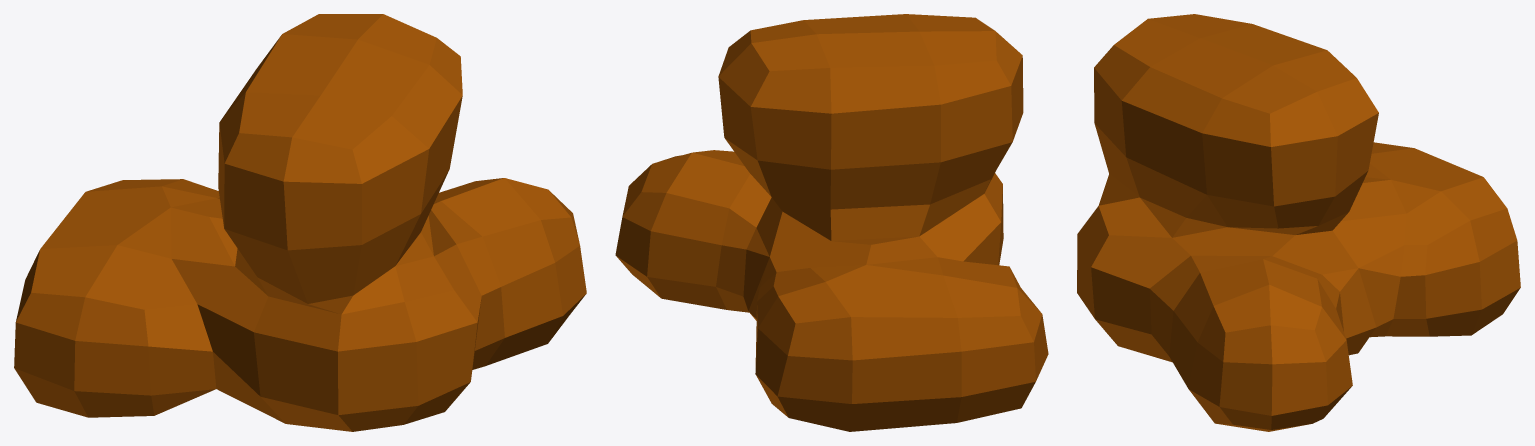
The model's file is M_Stone_01_Lod1.fbx.
The picture shows the model from 3 angles, left to right: view 1: azimuth 30°, elevation 25°; view 2: azimuth 150°, elevation 25°; view 3: azimuth 270°, elevation 25°; orthographic projection. The views are drawn at different scales.
Visible parts, largest first — view 1: M_Stone_01_Lod1; view 2: M_Stone_01_Lod1; view 3: M_Stone_01_Lod1.
Part boxes in pixels (bbox=[...]): M_Stone_01_Lod1: bbox=[14, 14, 586, 431]; M_Stone_01_Lod1: bbox=[615, 14, 1048, 431]; M_Stone_01_Lod1: bbox=[1077, 14, 1520, 431].
Bounding box in the file's own units: 195 × 123 × 161.
